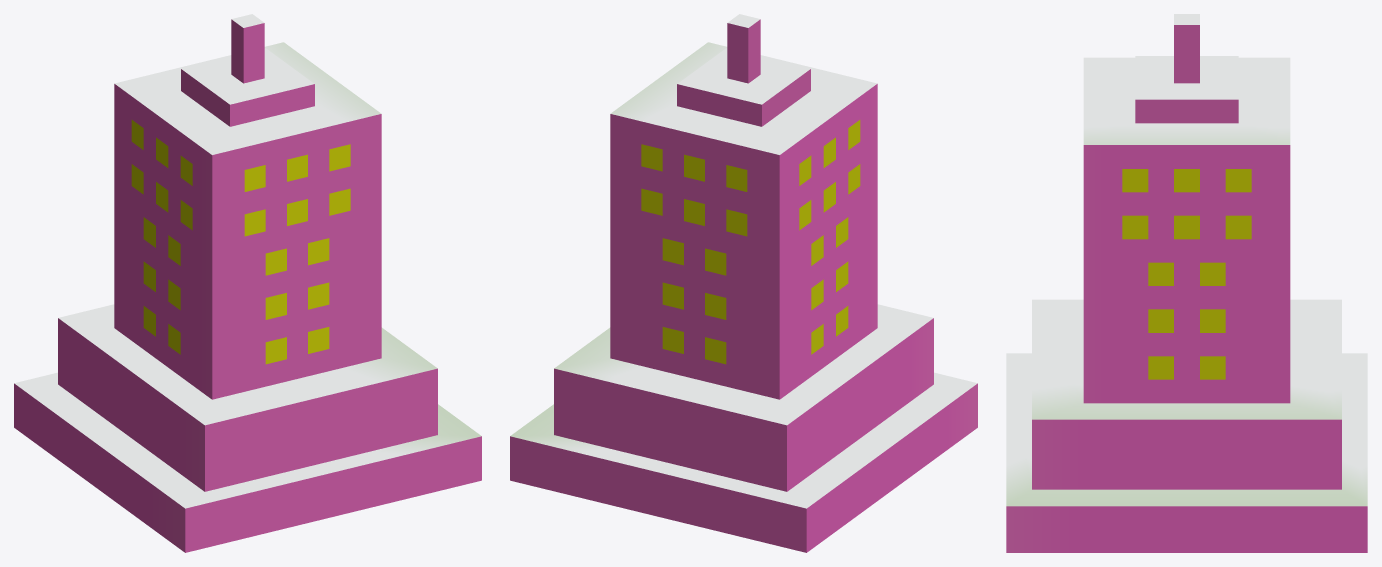
The model's file is HQ.OrangeStar.PinkCosmos.Snow.glb.
3 renders of one model, left to right at view 1: azimuth 30°, elevation 25°; view 2: azimuth 150°, elevation 25°; view 3: azimuth 270°, elevation 25°, orthographic. The views are drawn at different scales.
Visible parts, largest first — view 1: HQ.OrangeStar.PinkCosmos.Snow; view 2: HQ.OrangeStar.PinkCosmos.Snow; view 3: HQ.OrangeStar.PinkCosmos.Snow.
Part boxes in pixels (<box>): HQ.OrangeStar.PinkCosmos.Snow: <box>14,14,481,552</box>; HQ.OrangeStar.PinkCosmos.Snow: <box>510,14,977,552</box>; HQ.OrangeStar.PinkCosmos.Snow: <box>1006,14,1367,552</box>.
Bounding box in the file's own units: 2.8 × 3.91 × 2.8.
Materials: 2 (1 with a texture image).
